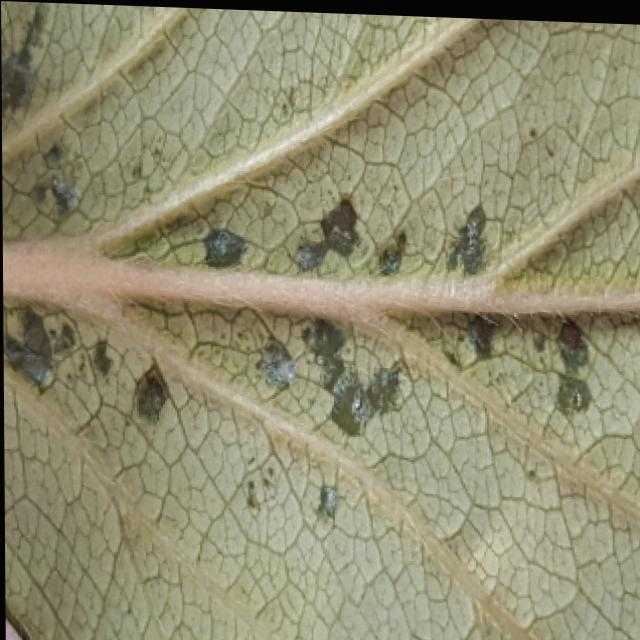Angular Leafspot: (0, 0, 640, 530)
